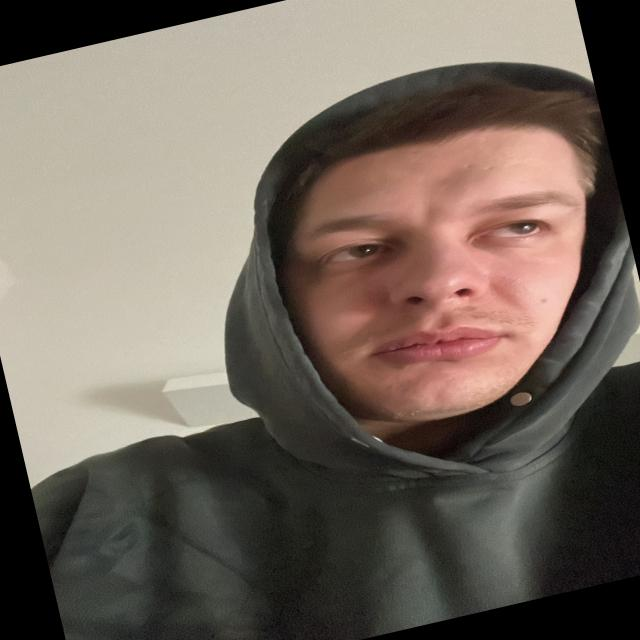JeremiasDiaz: (245, 71, 640, 452)
